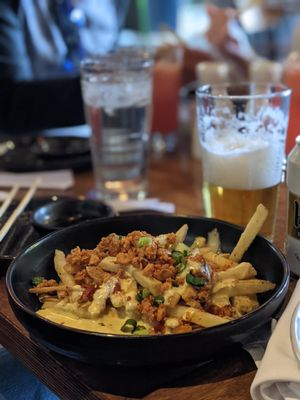pizza: (193, 82, 292, 249), (80, 56, 154, 203)
salad: (229, 203, 269, 263)
sushi: (9, 211, 294, 368)
